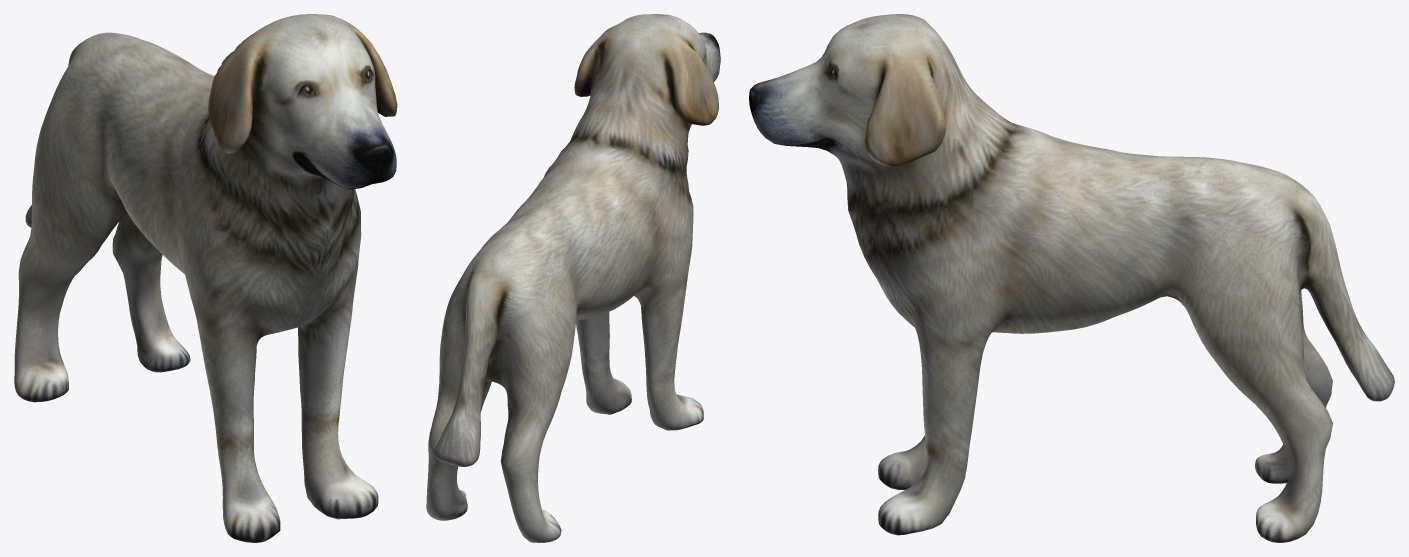
Rendered from b14dba11-afc7-434f-b8cb-d0e12038715e.glb.
The picture shows the model from 3 angles, left to right: view 1: azimuth 30°, elevation 25°; view 2: azimuth 150°, elevation 25°; view 3: azimuth 270°, elevation 25°; orthographic projection. The views are drawn at different scales.
Visible parts, largest first — view 1: Dog_Quad; view 2: Dog_Quad; view 3: Dog_Quad.
Boxes of the visible parts, x1,y1,x2,y2 form: Dog_Quad: (14,14,397,542); Dog_Quad: (426,14,720,542); Dog_Quad: (749,14,1394,542).
Bounding box in the file's own units: 0.375 × 1.09 × 1.31.
Materials: 1 (1 with a texture image).
